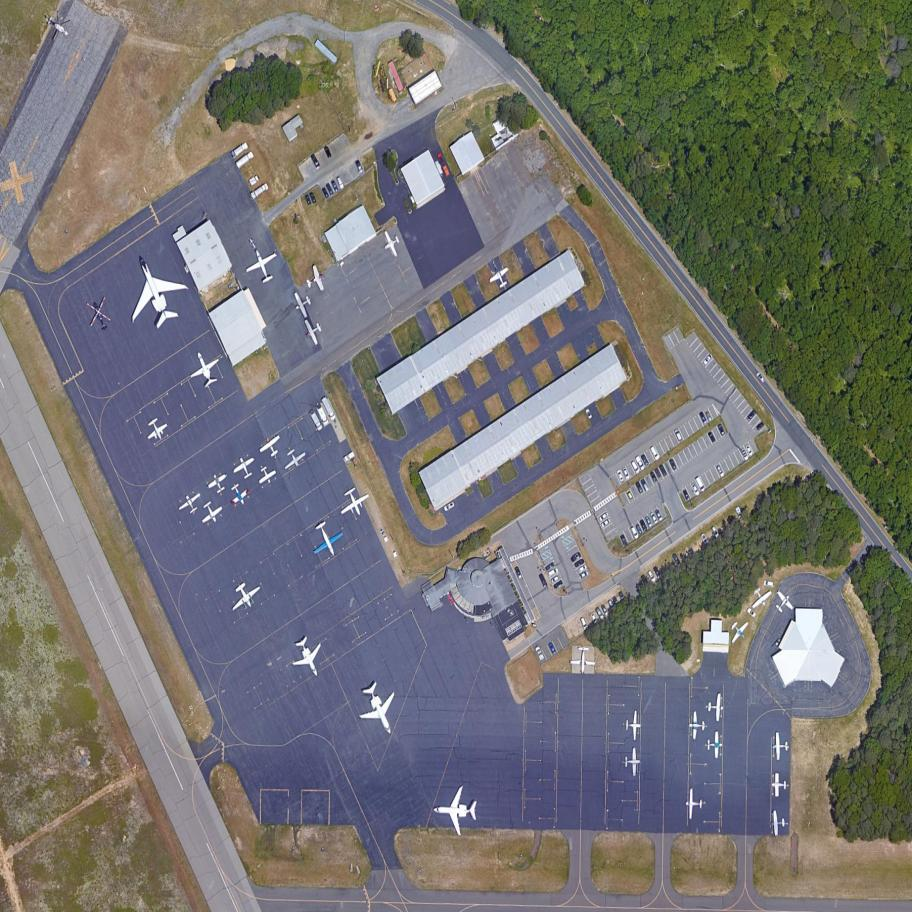large-vehicle: (320, 397, 337, 422), (307, 409, 324, 433), (234, 150, 255, 169), (314, 403, 330, 427), (249, 183, 270, 200), (229, 141, 249, 158), (695, 476, 707, 492), (548, 568, 559, 576)
plane: (108, 236, 201, 343), (346, 674, 412, 748), (281, 629, 335, 689), (303, 512, 353, 568), (432, 782, 479, 837), (182, 343, 227, 395), (239, 240, 285, 289), (222, 573, 270, 618), (332, 481, 377, 524), (221, 477, 257, 512), (194, 496, 230, 530), (254, 430, 289, 464), (228, 451, 263, 484), (483, 260, 517, 293), (139, 414, 174, 446), (276, 443, 311, 475), (201, 467, 235, 499), (722, 614, 754, 648), (744, 581, 778, 613), (377, 224, 406, 261), (174, 487, 207, 519), (769, 586, 800, 619), (299, 313, 328, 348), (290, 286, 317, 321), (302, 263, 329, 297), (253, 463, 281, 489), (685, 787, 702, 820), (687, 710, 705, 741), (625, 710, 642, 742), (705, 731, 724, 759), (772, 731, 789, 761), (708, 692, 724, 723), (625, 748, 641, 777), (770, 810, 787, 837), (771, 773, 787, 797)
small-vehicle: (534, 646, 547, 662), (537, 573, 549, 588), (672, 428, 684, 442), (640, 453, 652, 467), (354, 159, 365, 174), (652, 565, 663, 580), (310, 153, 320, 169), (746, 607, 759, 619), (755, 372, 767, 385), (443, 501, 457, 512), (715, 464, 726, 478), (635, 457, 646, 471), (646, 569, 657, 583), (629, 525, 640, 539), (630, 460, 641, 474), (580, 617, 590, 632), (547, 642, 558, 655), (618, 591, 629, 604), (699, 534, 710, 547), (734, 507, 745, 520), (583, 407, 594, 420), (671, 553, 682, 566), (621, 467, 632, 480), (324, 145, 334, 159), (308, 191, 318, 205), (513, 566, 523, 580), (595, 607, 605, 621), (711, 526, 721, 540), (740, 448, 750, 462), (698, 411, 708, 425), (640, 478, 650, 492), (668, 459, 679, 471), (681, 490, 692, 502), (754, 420, 766, 431), (702, 354, 714, 365), (570, 552, 582, 563), (600, 603, 610, 616), (707, 431, 717, 444), (691, 483, 701, 496), (716, 423, 726, 436), (641, 575, 651, 588), (650, 447, 660, 460), (649, 512, 659, 525), (625, 489, 635, 502), (635, 481, 645, 494), (336, 176, 345, 190), (645, 515, 654, 529), (746, 410, 757, 421), (607, 599, 617, 611), (544, 561, 556, 571), (578, 570, 590, 580), (331, 180, 340, 193), (325, 183, 334, 196), (619, 534, 628, 547), (640, 520, 649, 533), (590, 613, 600, 624), (599, 512, 610, 522), (321, 187, 330, 199), (612, 596, 621, 608), (659, 465, 668, 477), (705, 411, 714, 423), (600, 518, 612, 527), (635, 524, 644, 536), (616, 471, 625, 482), (304, 194, 312, 206), (650, 471, 658, 483), (746, 445, 754, 456), (763, 580, 774, 588), (553, 580, 563, 588), (551, 576, 561, 584), (577, 565, 587, 573), (574, 560, 584, 568), (655, 468, 662, 477)
